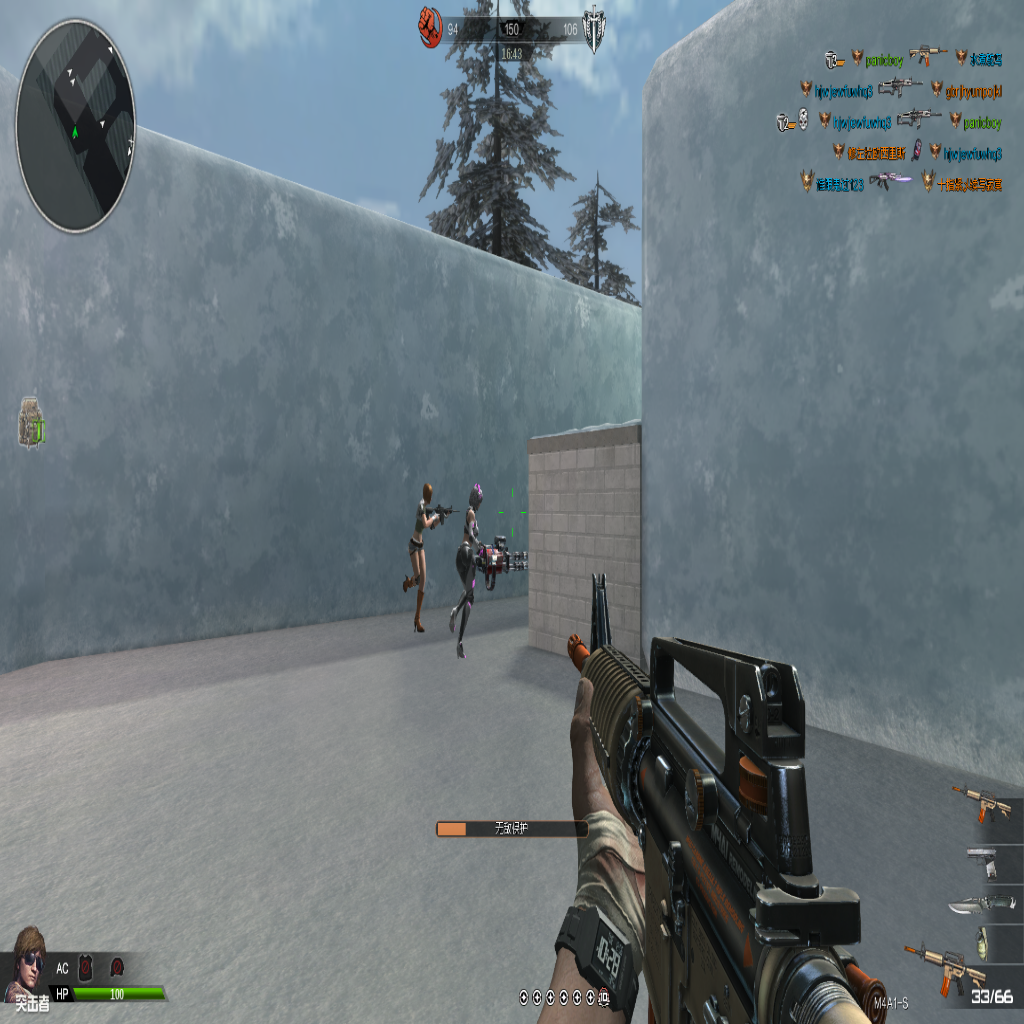tt: (404, 487, 450, 634), (450, 503, 483, 649)
